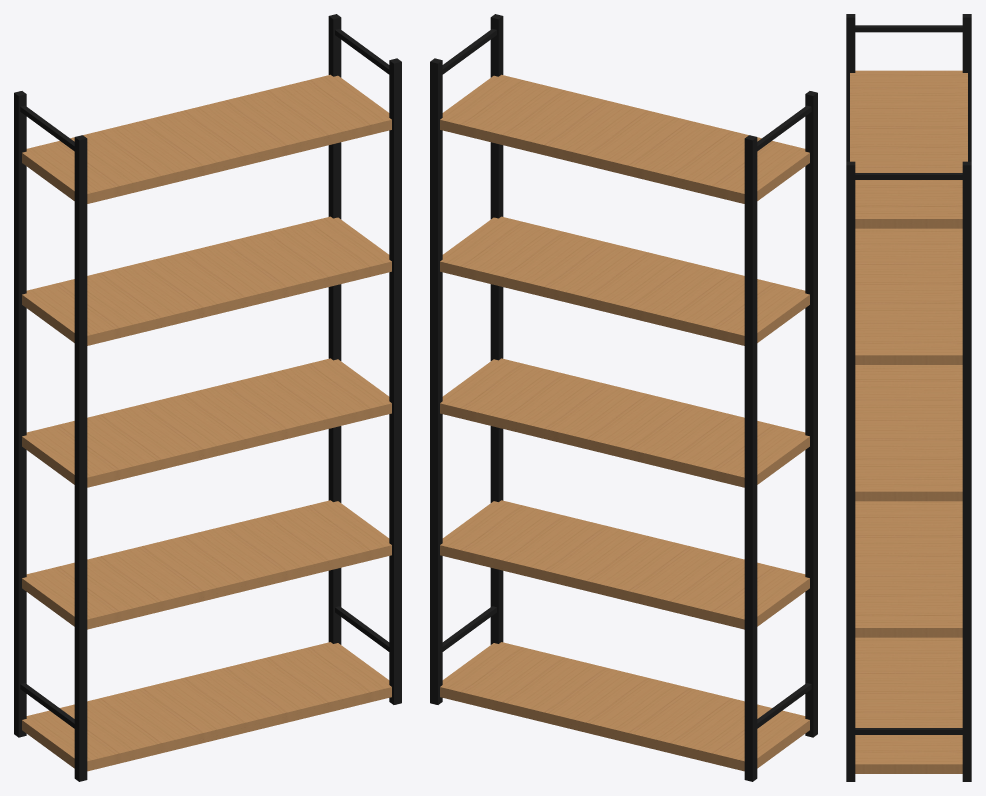
Rendered from shelf-open-oak.glb.
3 renders of one model, left to right at view 1: azimuth 30°, elevation 25°; view 2: azimuth 150°, elevation 25°; view 3: azimuth 270°, elevation 25°, orthographic. The views are drawn at different scales.
Visible parts, largest first — view 1: shelf-open-oak; view 2: shelf-open-oak; view 3: shelf-open-oak.
Part boxes in pixels (<box>): shelf-open-oak: <box>14,14,401,781</box>; shelf-open-oak: <box>430,14,817,781</box>; shelf-open-oak: <box>846,14,971,781</box>.
Size of the model in its own units: 1 by 1.9 by 0.35.
Materials: 2 (1 with a texture image).
